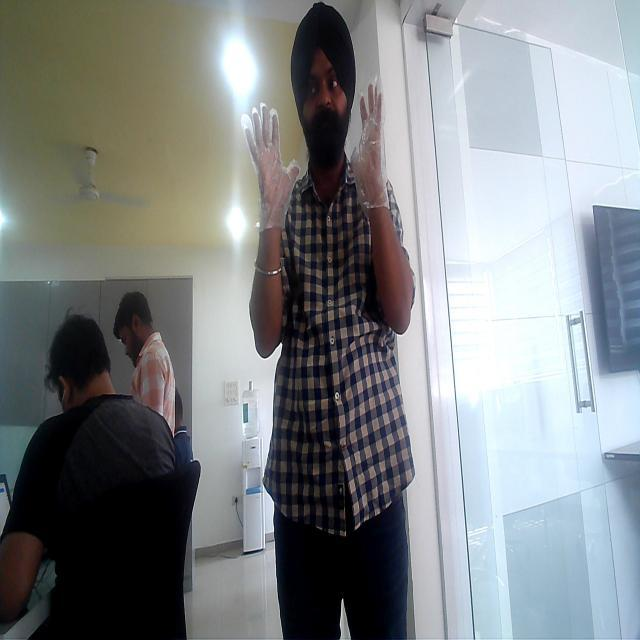with_gloves: (240, 102, 300, 234), (352, 74, 390, 219)
